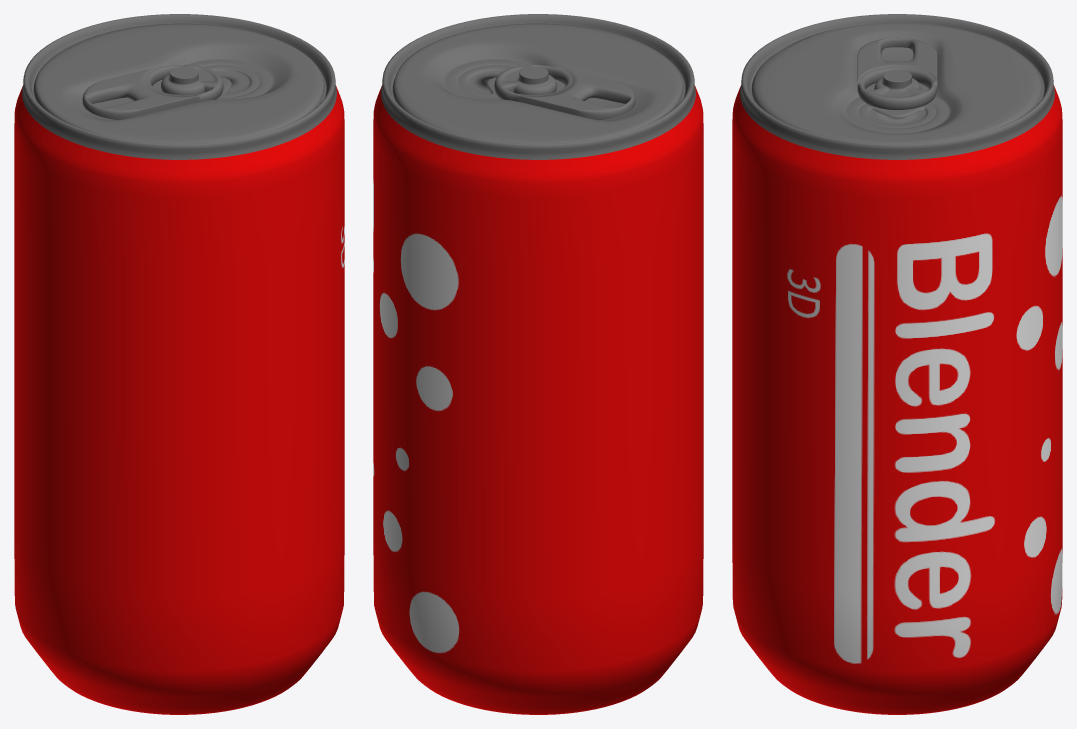
Rendered from can.glb.
3 views of the same model, side by side, from view 1: azimuth 30°, elevation 25°; view 2: azimuth 150°, elevation 25°; view 3: azimuth 270°, elevation 25° (orthographic).
Visible parts, largest first — view 1: Can, tab; view 2: Can, tab; view 3: Can, tab.
Boxes of the visible parts, x1,y1,x2,y2 form: Can: (14,14,344,714); tab: (82,64,223,120); Can: (373,14,703,714); tab: (494,64,635,120); Can: (732,14,1062,714); tab: (857,37,937,109).
Bounding box in the file's own units: 6.27 × 12.32 × 6.27.
2 materials, 1 textured.
